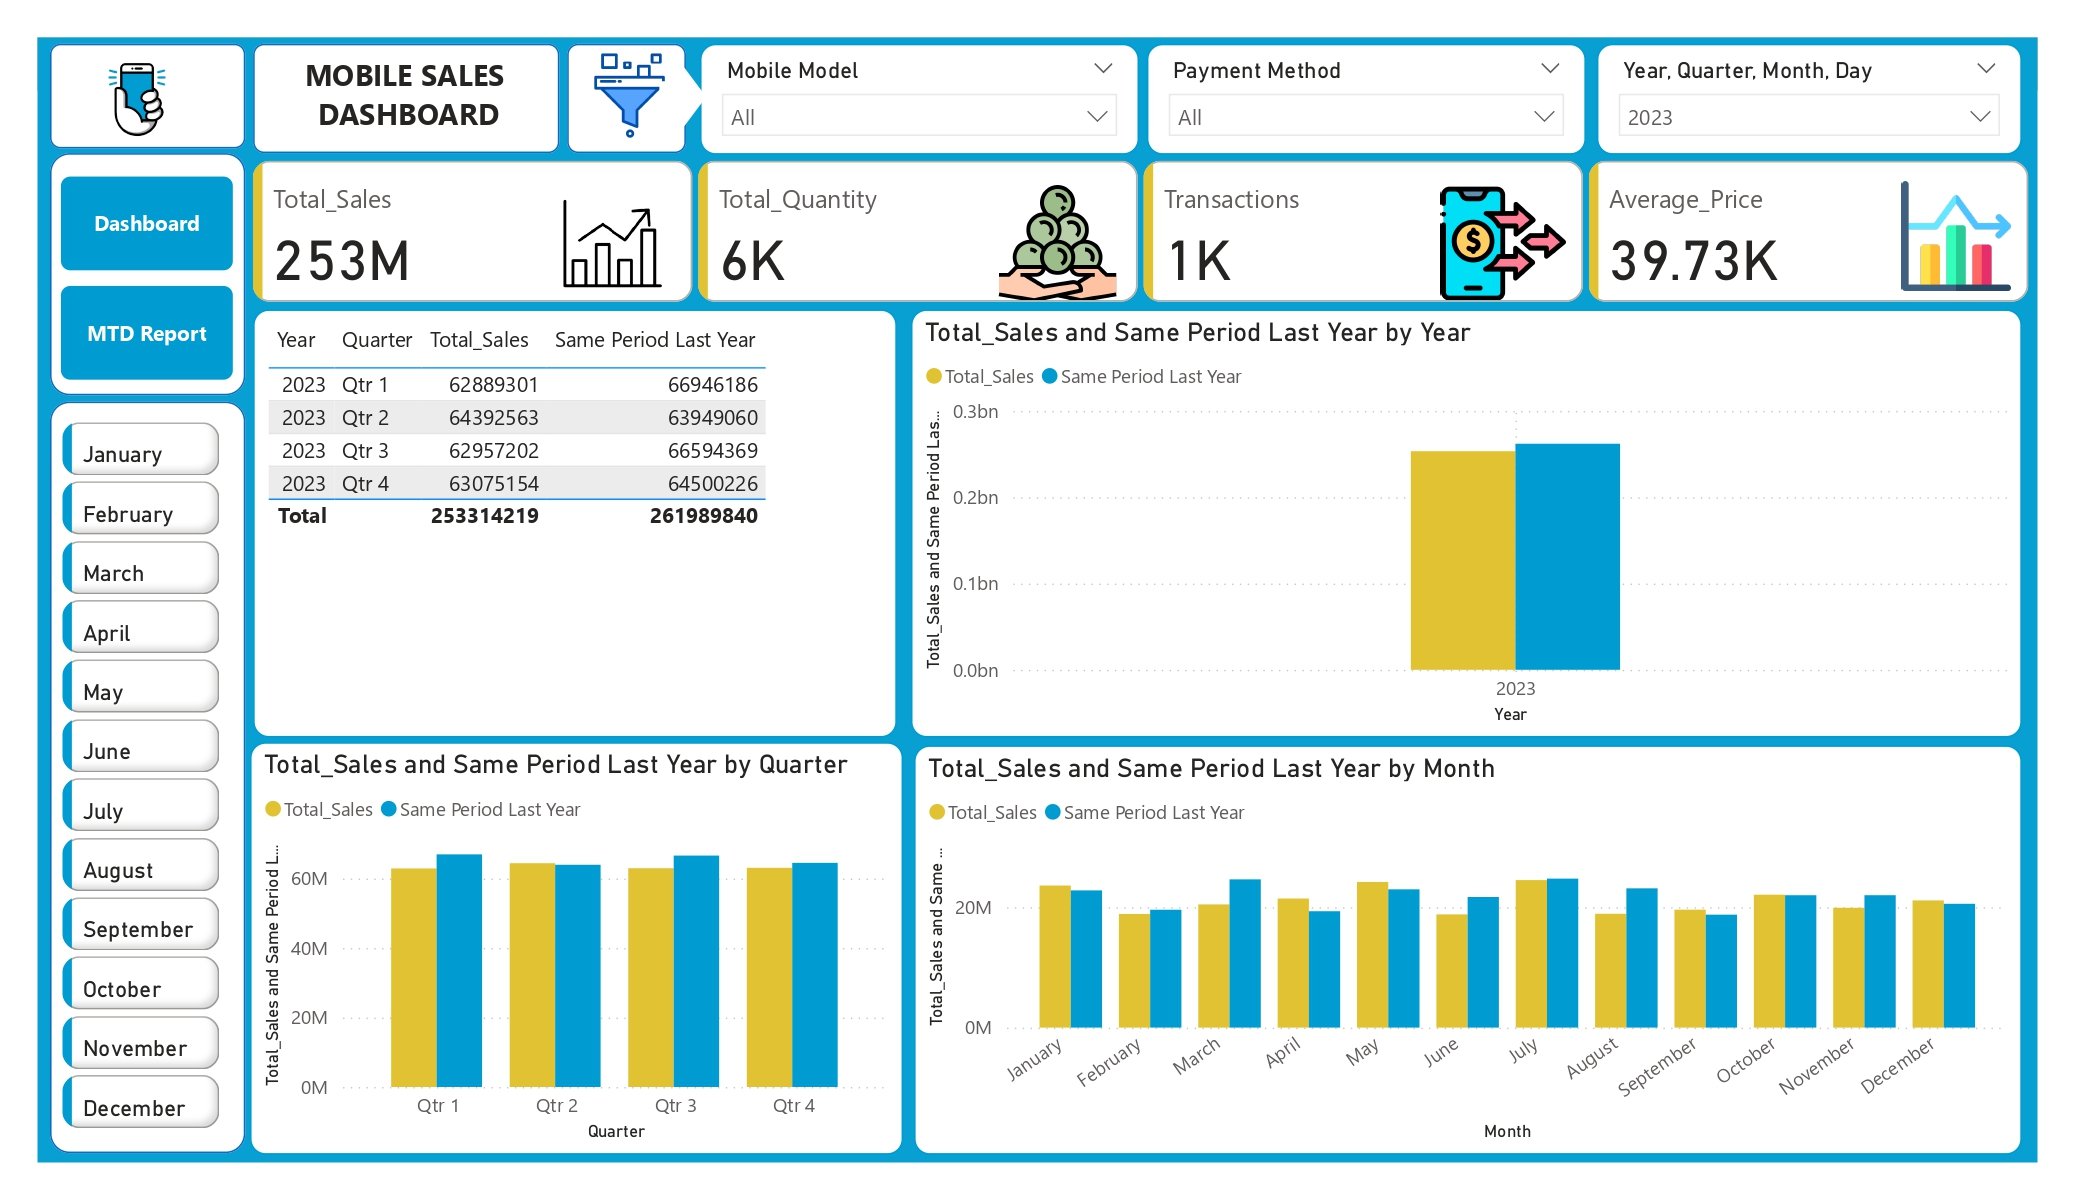

The dashboard page shown, as its layout file describes it:
{"tool":"powerbi","page":{"name":"Same Period Last Year","canvas":[1280,720],"ordinal":2},"visuals":[{"type":"shape","box":[7.5,3.8,125,67.5],"z":0},{"type":"image","box":[23.8,3.8,78.8,71.2],"z":1000},{"type":"shape","box":[7.5,73.8,125,155],"z":2000},{"type":"cardVisual","fields":{"Data":["Sales_Data.Total_Sales","Sales_Data.Total_Quantity","Sales_Data.Transactions","Sales_Data.Average_Price"]},"box":[132.5,73.8,1147.5,100],"z":3000},{"type":"slicer","fields":{"Values":["Sales_Data.Mobile Model"]},"box":[423.8,3.8,281.2,71.2],"z":4000},{"type":"slicer","fields":{"Values":["Sales_Data.Payment Method"]},"box":[710,3.8,281.2,71.2],"z":5000},{"type":"slicer","fields":{"Values":["Custom_Calendar.Date.Variation.Date Hierarchy.Year","Custom_Calendar.Date.Variation.Date Hierarchy.Quarter","Custom_Calendar.Date.Variation.Date Hierarchy.Month","Custom_Calendar.Date.Variation.Date Hierarchy.Day"]},"box":[997.5,3.8,272.5,71.2],"z":6000},{"type":"shape","box":[338.8,3.8,76.2,70],"z":7000},{"type":"image","box":[337.5,3.8,81.2,66.2],"z":8000},{"type":"shape","box":[397.5,17.5,30,40],"z":9000},{"type":"shape","box":[137.5,3.8,196.2,70],"z":10000},{"type":"textbox","box":[156.2,6.2,162.5,63.8],"z":11000},{"type":"shape","box":[7.5,232.5,125,481.2],"z":12000},{"type":"advancedSlicerVisual","fields":{"Values":["Custom_Calendar.Date.Variation.Date Hierarchy.Month"]},"box":[11.2,241.2,110,472.5],"z":13000},{"type":"tableEx","fields":{"Values":["Custom_Calendar.Date.Variation.Date Hierarchy.Year","Custom_Calendar.Date.Variation.Date Hierarchy.Quarter","Sales_Data.Total_Sales","Sales_Data.Same Period Last Year"]},"box":[137.5,173.8,412.5,273.8],"z":14000},{"type":"clusteredColumnChart","fields":{"Category":["Custom_Calendar.Date.Variation.Date Hierarchy.Year","Custom_Calendar.Date.Variation.Date Hierarchy.Quarter"],"Y":["Sales_Data.Total_Sales","Sales_Data.Same Period Last Year"]},"box":[558.8,173.8,711.2,273.8],"z":15000},{"type":"clusteredColumnChart","fields":{"Y":["Sales_Data.Total_Sales","Sales_Data.Same Period Last Year"],"Category":["Custom_Calendar.Date.Variation.Date Hierarchy.Year","Custom_Calendar.Date.Variation.Date Hierarchy.Quarter","Custom_Calendar.Date.Variation.Date Hierarchy.Month","Custom_Calendar.Date.Variation.Date Hierarchy.Day"]},"box":[561.2,452.5,708.8,262.5],"z":16000},{"type":"clusteredColumnChart","fields":{"Category":["Custom_Calendar.Date.Variation.Date Hierarchy.Year","Custom_Calendar.Date.Variation.Date Hierarchy.Quarter"],"Y":["Sales_Data.Total_Sales","Sales_Data.Same Period Last Year"]},"box":[136.2,451.2,417.5,263.8],"z":17000},{"type":"pageNavigator","box":[15,88.8,110,130],"z":18000}]}

Visuals, with their boxes on the page's 1280x720 design canvas (x1, y1, x2, y2). These are canvas units, not pixel positions in the 2075x1200 screenshot, which may show the page scaled, cropped or inside an application window:
shape: (8,4,132,71)
image: (24,4,103,75)
shape: (8,74,132,229)
cardVisual - Sales_Data.Total_Sales x Sales_Data.Total_Quantity: (132,74,1280,174)
slicer - Sales_Data.Mobile Model: (424,4,705,75)
slicer - Sales_Data.Payment Method: (710,4,991,75)
slicer - Custom_Calendar.Date.Variation.Date Hierarchy.Year x Custom_Calendar.Date.Variation.Date Hierarchy.Quarter: (998,4,1270,75)
shape: (339,4,415,74)
image: (338,4,419,70)
shape: (398,18,428,58)
shape: (138,4,334,74)
textbox: (156,6,319,70)
shape: (8,232,132,714)
advancedSlicerVisual - Custom_Calendar.Date.Variation.Date Hierarchy.Month: (11,241,121,714)
tableEx - Custom_Calendar.Date.Variation.Date Hierarchy.Year x Custom_Calendar.Date.Variation.Date Hierarchy.Quarter: (138,174,550,448)
clusteredColumnChart - Custom_Calendar.Date.Variation.Date Hierarchy.Year x Custom_Calendar.Date.Variation.Date Hierarchy.Quarter: (559,174,1270,448)
clusteredColumnChart - Sales_Data.Total_Sales x Sales_Data.Same Period Last Year: (561,452,1270,715)
clusteredColumnChart - Custom_Calendar.Date.Variation.Date Hierarchy.Year x Custom_Calendar.Date.Variation.Date Hierarchy.Quarter: (136,451,554,715)
pageNavigator: (15,89,125,219)
